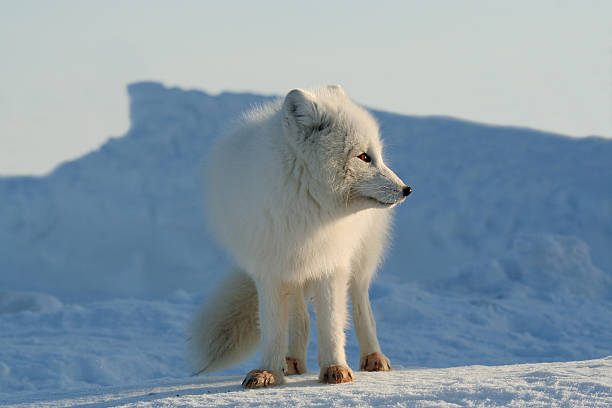arcticfox: (308, 102, 417, 235)
